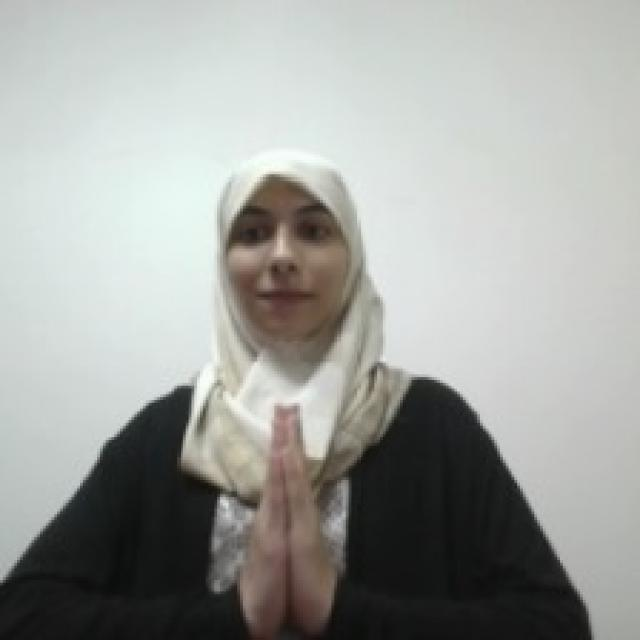sorry: (233, 395, 343, 640)
